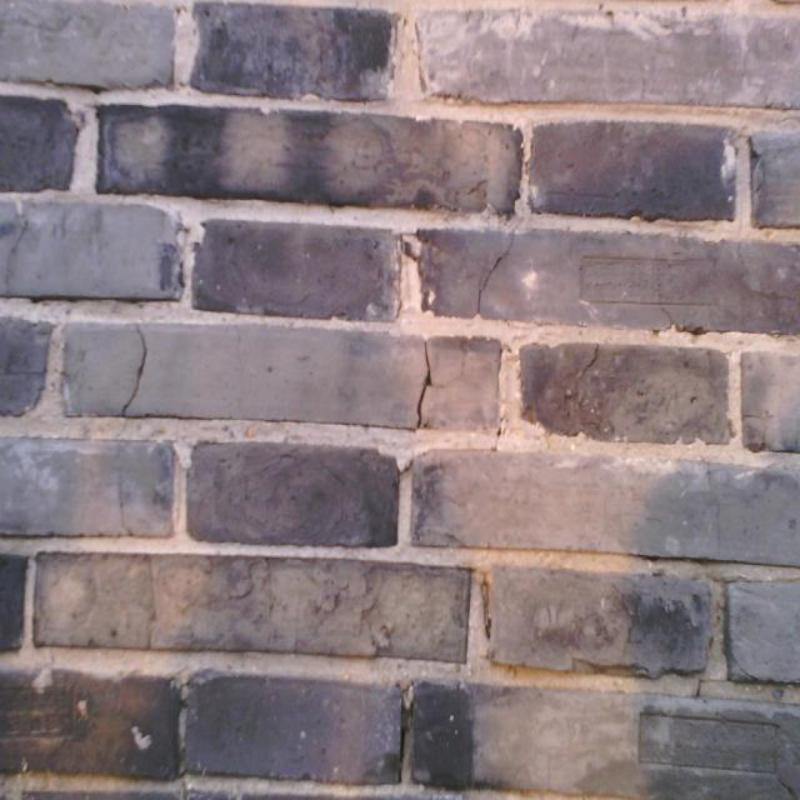pothole: (400, 426, 503, 475), (478, 232, 515, 315), (121, 325, 148, 418), (417, 342, 433, 428), (118, 475, 134, 536), (695, 678, 729, 699), (580, 344, 599, 376), (399, 726, 405, 782)
